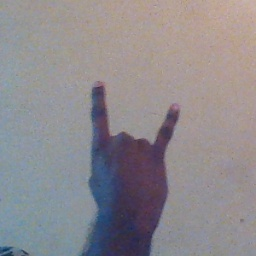V: (83, 75, 184, 217)
